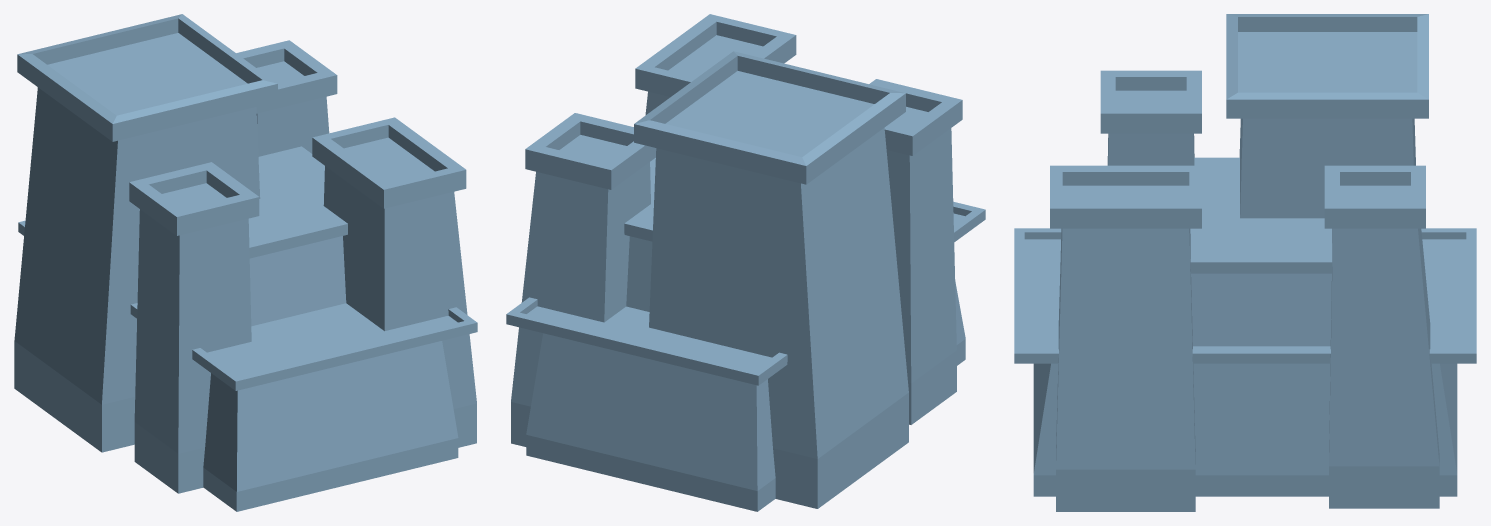
File: Stronghold.fbx
3 renders of one model, left to right at view 1: azimuth 30°, elevation 25°; view 2: azimuth 150°, elevation 25°; view 3: azimuth 270°, elevation 25°, orthographic. The views are drawn at different scales.
Parts seen in each view (by area): view 1: Plane.004; view 2: Plane.004; view 3: Plane.004.
Boxes of the visible parts, x1,y1,x2,y2 form: Plane.004: (14, 14, 477, 511); Plane.004: (506, 14, 985, 511); Plane.004: (1014, 14, 1476, 511).
Size of the model in its own units: 6.34 by 6.91 by 8.21.
